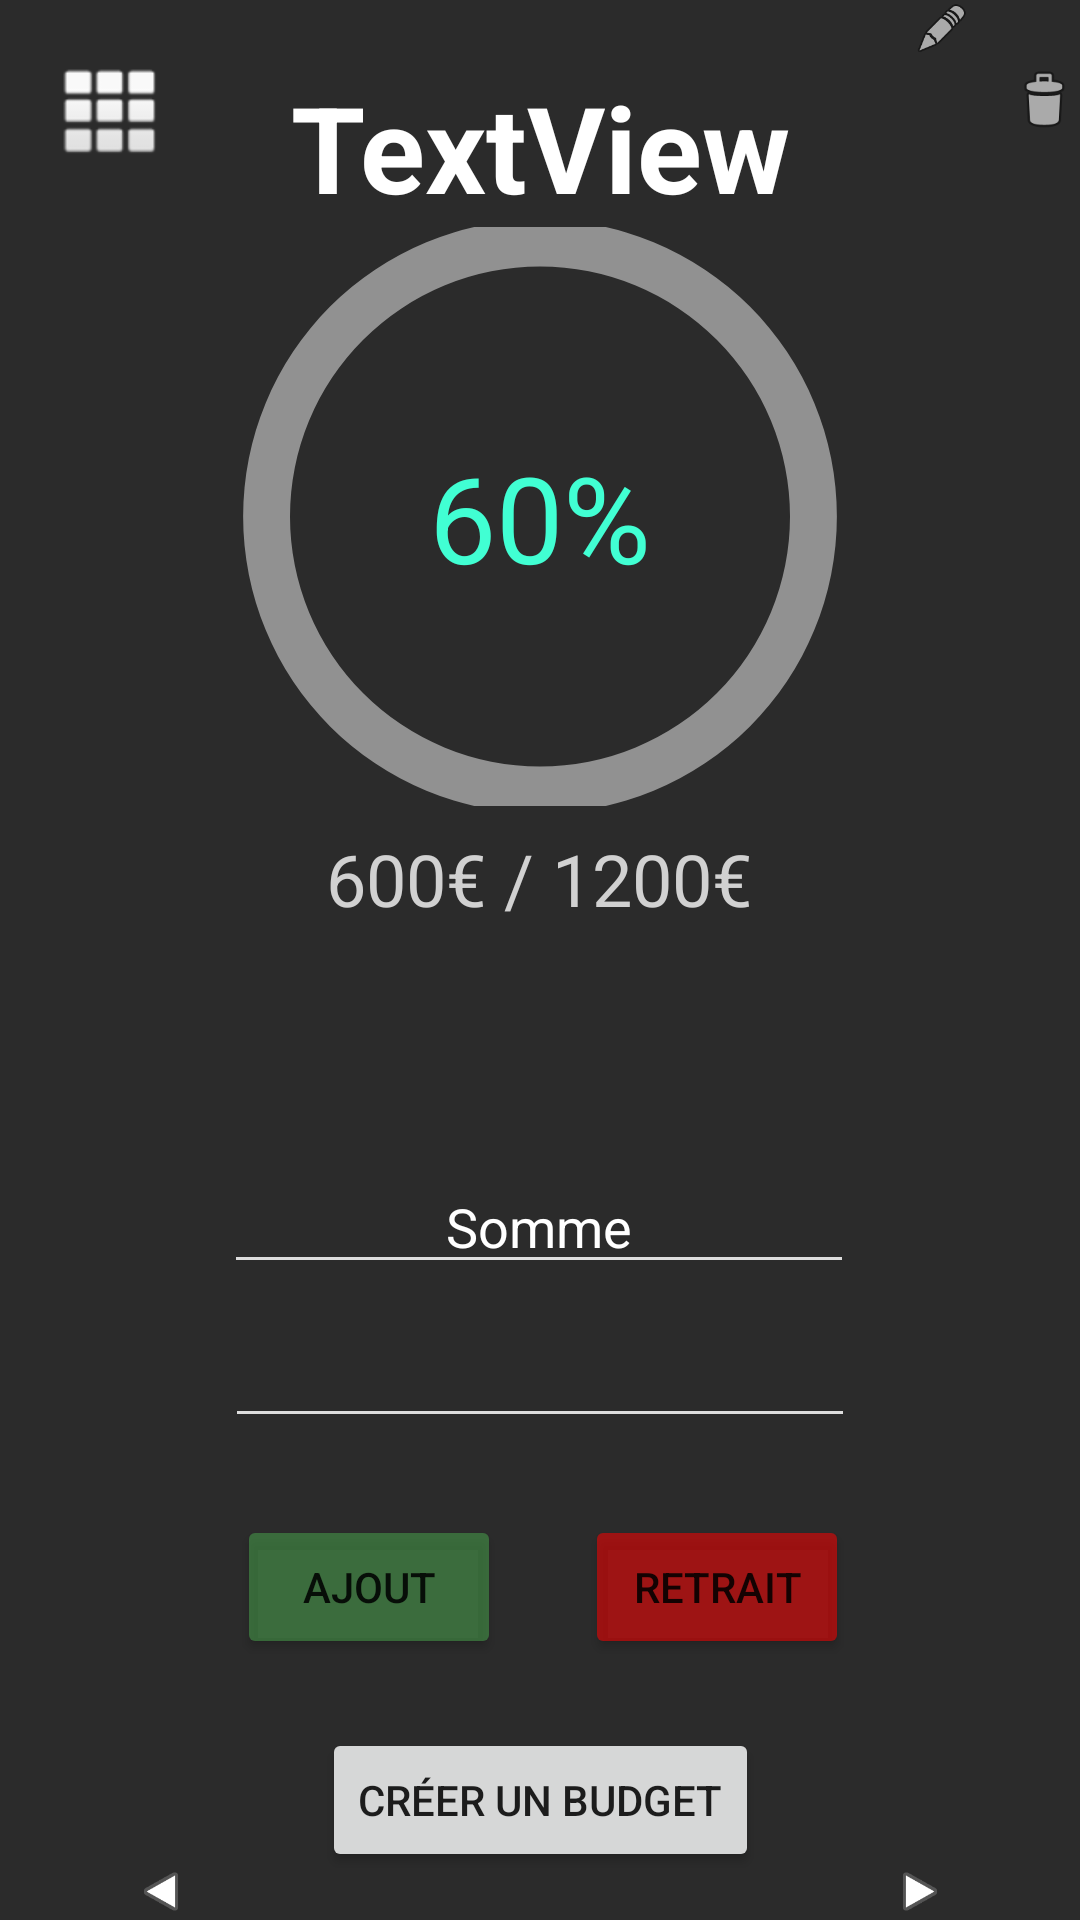

Icon click points for this 1080x1920 phone screenshot, format point (x, y):
delete: point (1044, 99)
dialer: point (109, 111)
edit: point (942, 28)
